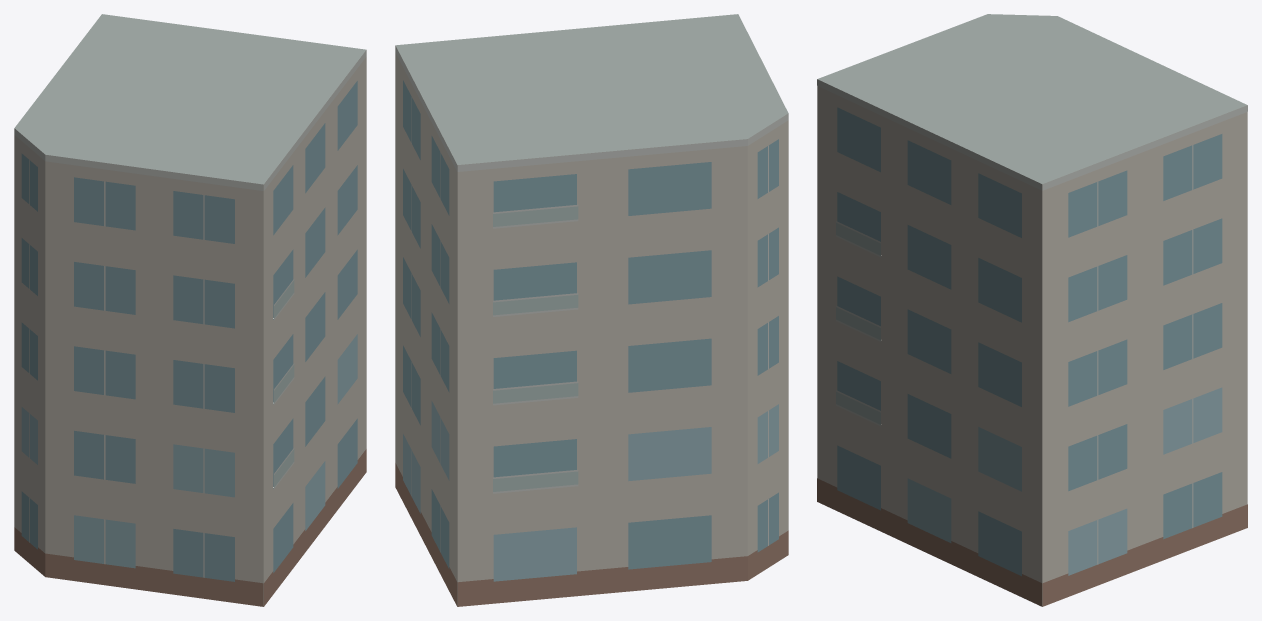
File: survey-upis-32889572.glb
3 renders of one model, left to right at view 1: azimuth 30°, elevation 25°; view 2: azimuth 150°, elevation 25°; view 3: azimuth 270°, elevation 25°, orthographic. The views are drawn at different scales.
Visible parts, largest first — view 1: survey-upis-32889572.tmp; view 2: survey-upis-32889572.tmp; view 3: survey-upis-32889572.tmp.
Boxes of the visible parts, left/top/right/bottom form: survey-upis-32889572.tmp: left=14, top=14, right=366, bottom=606; survey-upis-32889572.tmp: left=395, top=14, right=788, bottom=606; survey-upis-32889572.tmp: left=817, top=14, right=1247, bottom=606.
Bounding box in the file's own units: 13.48 × 15.6 × 14.41.
